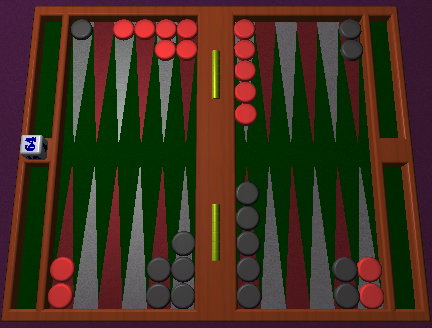checker: (358, 282, 384, 307), (356, 256, 382, 281), (333, 283, 360, 307), (171, 283, 195, 309), (172, 230, 195, 256), (50, 256, 74, 280), (48, 283, 72, 307), (171, 258, 195, 282), (147, 257, 171, 281), (146, 283, 170, 307), (235, 180, 259, 204), (235, 205, 259, 229), (236, 231, 260, 255), (236, 257, 260, 281), (237, 284, 261, 308), (338, 16, 362, 39), (233, 101, 257, 124), (234, 79, 258, 102), (333, 257, 357, 280), (70, 17, 92, 40), (112, 18, 134, 40), (176, 17, 198, 39), (341, 39, 363, 61), (234, 59, 256, 80), (233, 38, 255, 59), (233, 18, 255, 39), (154, 39, 176, 60), (155, 18, 177, 39), (134, 18, 155, 39), (177, 40, 198, 60)
